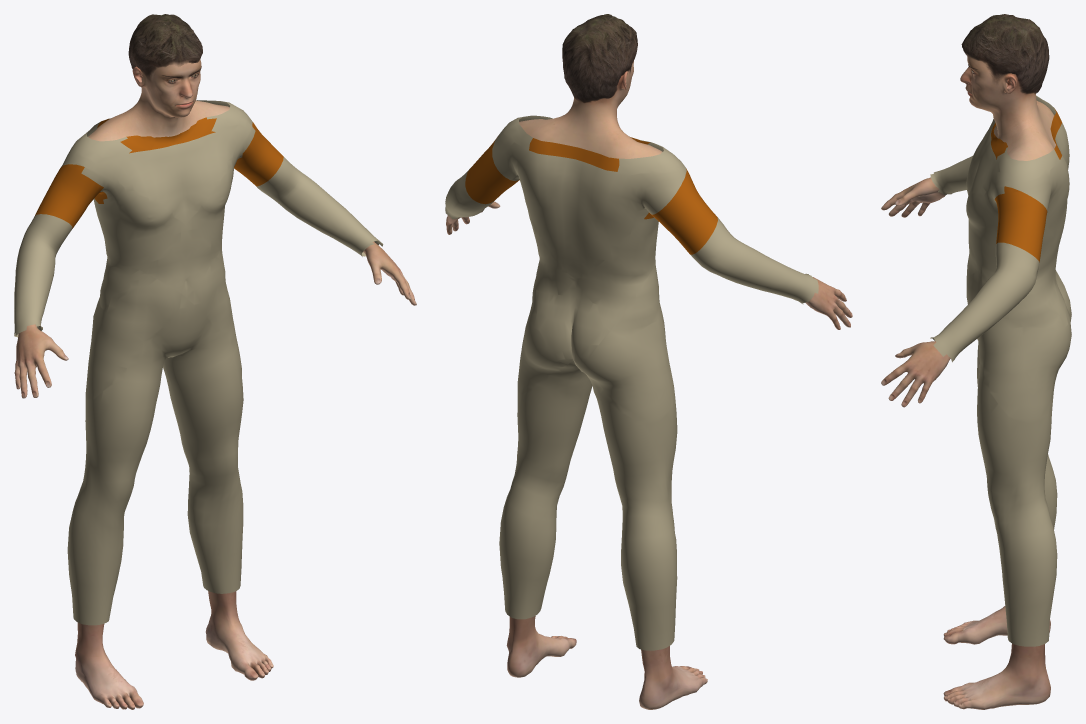
File: crew_VEGA.glb
3 views of the same model, side by side, from view 1: azimuth 30°, elevation 25°; view 2: azimuth 150°, elevation 25°; view 3: azimuth 270°, elevation 25° (orthographic).
Visible parts, largest first — view 1: VEGA_uniform, VEGA_skin, VEGA_short02; view 2: VEGA_uniform, VEGA_skin, VEGA_short02; view 3: VEGA_uniform, VEGA_skin, VEGA_short02.
Part boxes in pixels (x1=…): VEGA_uniform: x1=14, y1=100, x2=383, y2=625; VEGA_skin: x1=14, y1=59, x2=416, y2=709; VEGA_short02: x1=128, y1=14, x2=202, y2=80; VEGA_uniform: x1=445, y1=115, x2=818, y2=650; VEGA_skin: x1=446, y1=61, x2=852, y2=709; VEGA_short02: x1=562, y1=14, x2=637, y2=102; VEGA_uniform: x1=930, y1=95, x2=1071, y2=646; VEGA_skin: x1=881, y1=55, x2=1055, y2=709; VEGA_short02: x1=961, y1=14, x2=1049, y2=94.
Bounding box in the file's own units: 1.19 × 1.9 × 0.504.
16 materials, 11 textured.
